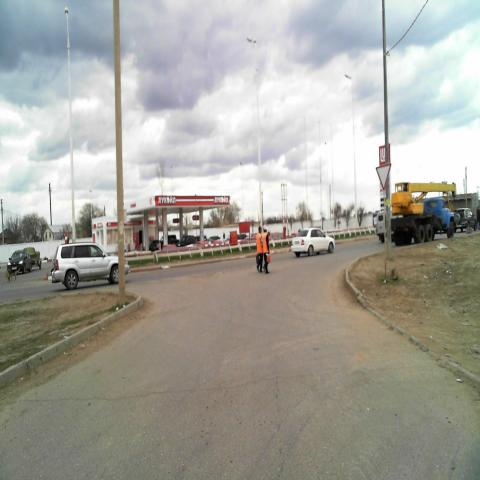2_4: (376, 162, 391, 190)
